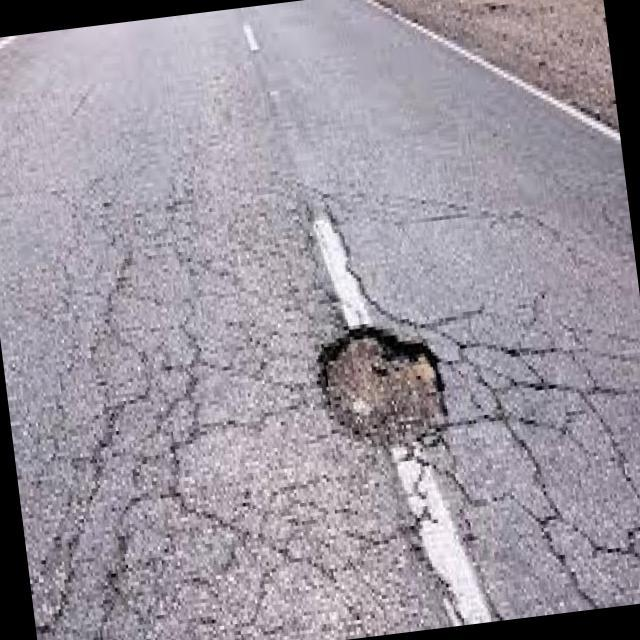Pothole: (318, 327, 448, 452)
